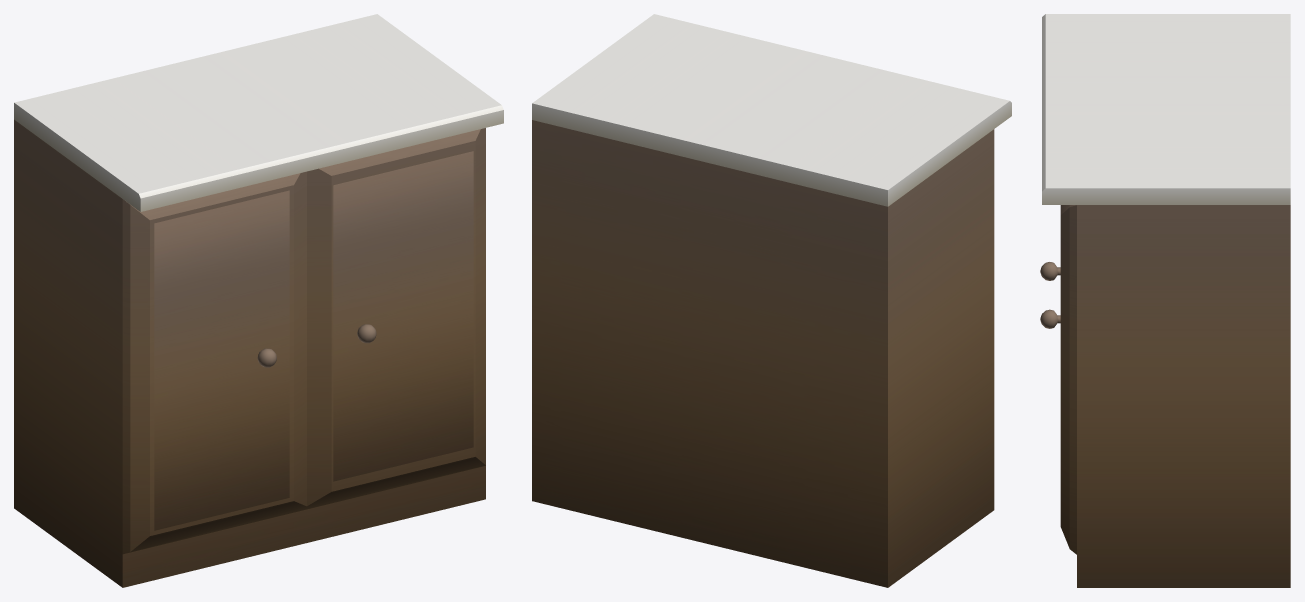
The model's file is counter (1).fbx.
3 views of the same model, side by side, from view 1: azimuth 30°, elevation 25°; view 2: azimuth 150°, elevation 25°; view 3: azimuth 270°, elevation 25° (orthographic). The views are drawn at different scales.
Visible parts, largest first — view 1: counter1; view 2: counter1; view 3: counter1.
Boxes of the visible parts, bbox=[...] form: counter1: bbox=[14, 14, 503, 587]; counter1: bbox=[532, 14, 1011, 587]; counter1: bbox=[1040, 14, 1290, 587].
Bounding box in the file's own units: 2.87 × 3.06 × 1.74.
